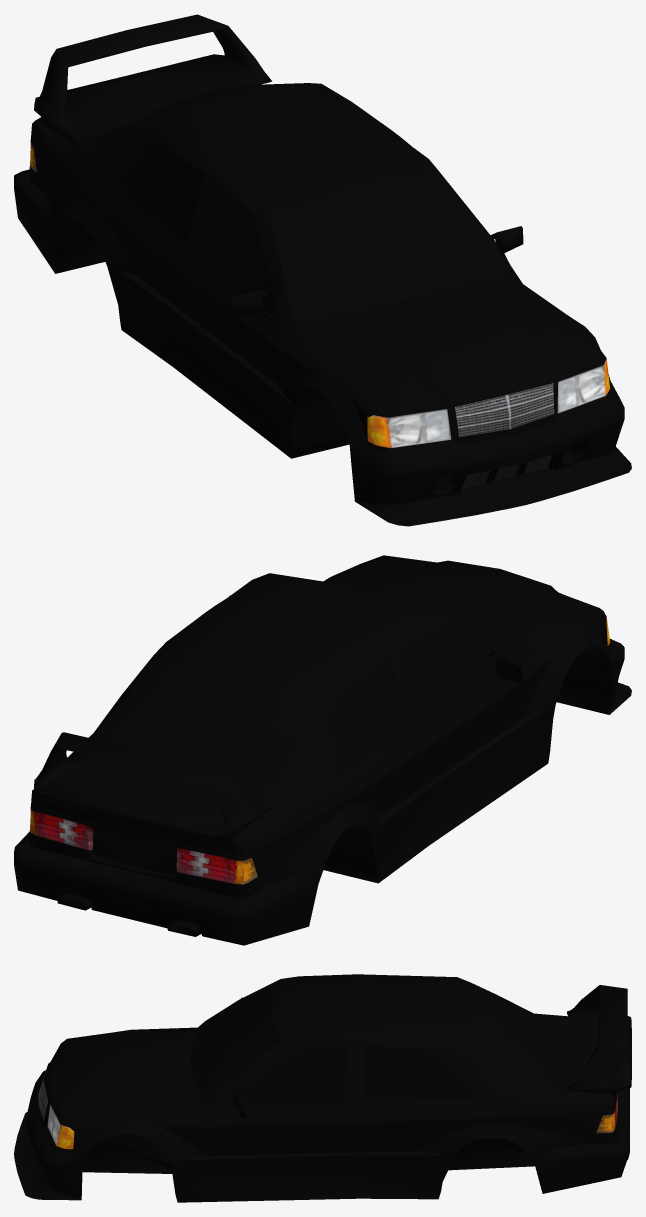
Rendered from GermanSportSedanEvo2.fbx.
3 renders of one model, top to bottom at view 1: azimuth 30°, elevation 25°; view 2: azimuth 150°, elevation 25°; view 3: azimuth 270°, elevation 25°, orthographic. The views are drawn at different scales.
Visible parts, largest first — view 1: Plane; view 2: Plane; view 3: Plane.
Part boxes in pixels (<box>): Plane: <box>14,14,631,526</box>; Plane: <box>14,555,631,945</box>; Plane: <box>14,974,631,1202</box>.
Size of the model in its own units: 127 by 83.58 by 303.
Materials: 3 (1 with a texture image).
